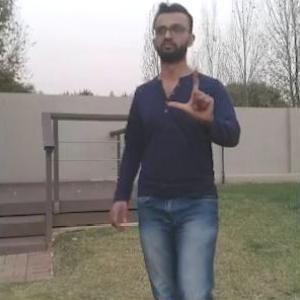land_hand: (164, 58, 217, 120)
